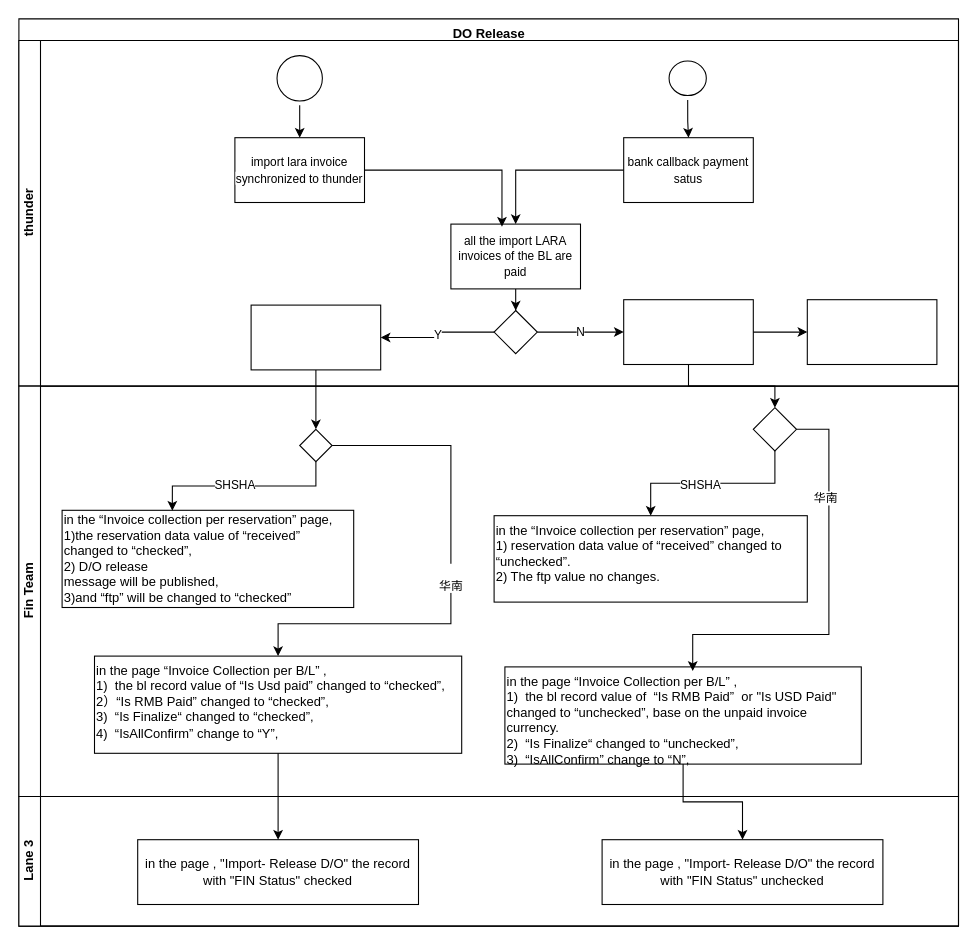
This 977x945 diagram has some shape labels left out. The centre of each missing label's shape, as x and y in pixels:
"BL Payment Status set to N" goes at point 871,331.
"DO Payment Status set to N" goes at point 688,331.
"DO payment status set to Y" goes at point 315,337.
